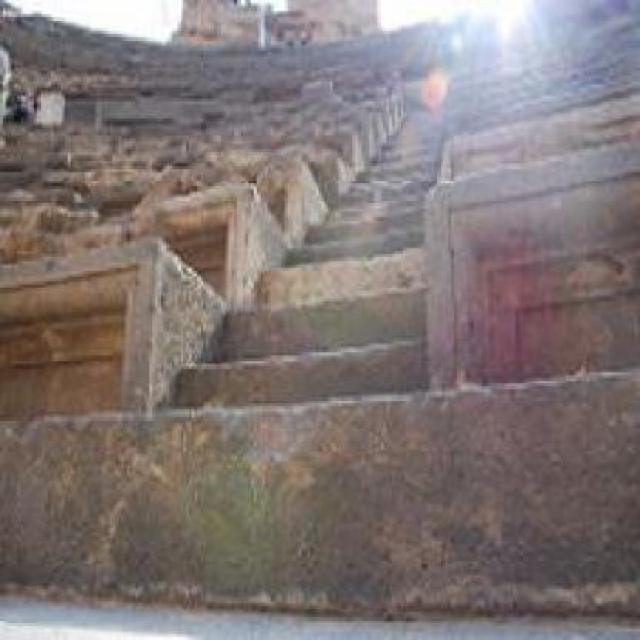stair: (183, 166, 417, 392)
